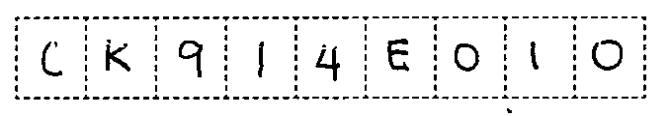0: (584, 34, 626, 76), (447, 37, 488, 75)
1: (514, 34, 557, 79), (244, 38, 277, 81)
4: (309, 39, 346, 84)
9: (173, 32, 207, 84)
C: (35, 37, 69, 81)
E: (381, 32, 417, 74)
K: (94, 33, 138, 77)
